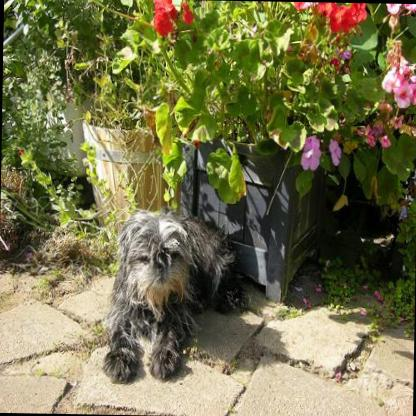affenpinscher: (99, 202, 254, 387)
